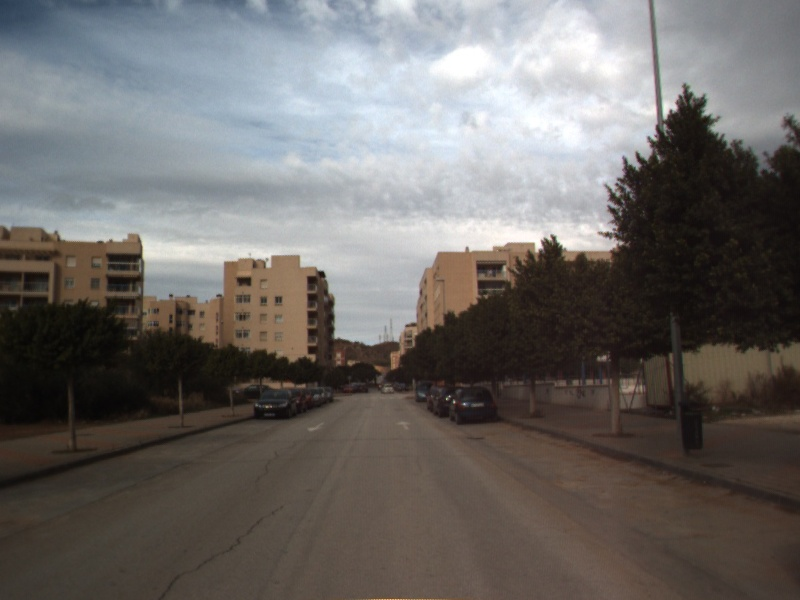STRAIGHT: (394, 419, 414, 432)
